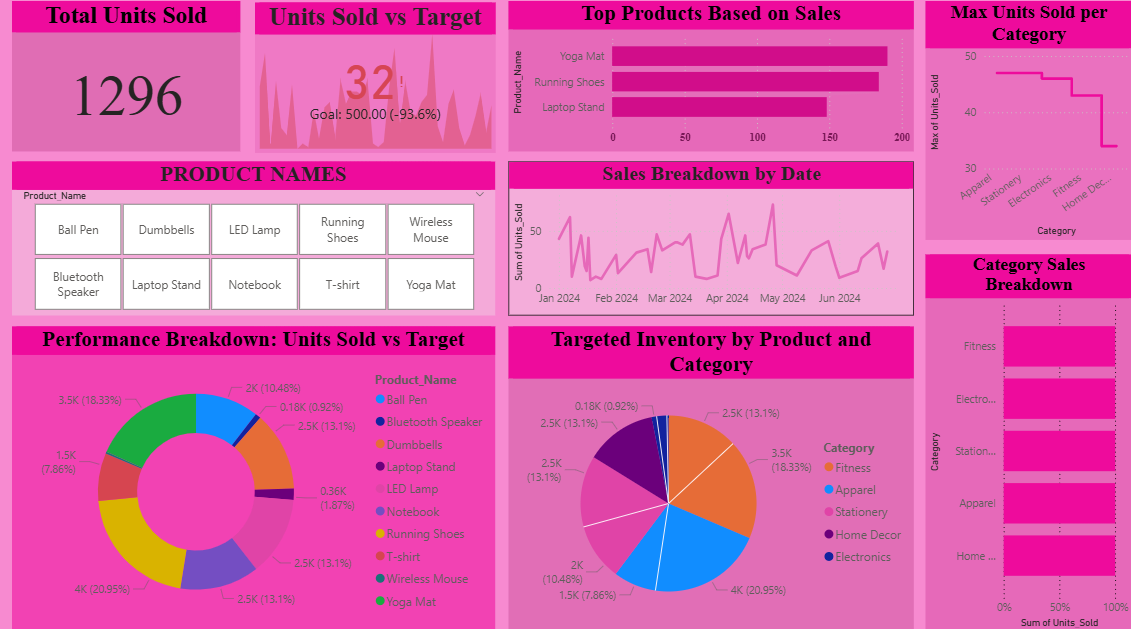

This screenshot's page, from the dashboard's own definition file:
{"tool":"powerbi","page":{"name":"Total Units Sold","canvas":[1280,720],"ordinal":0},"visuals":[{"type":"card","title":"Total Units Sold","fields":{"Values":["Sum(Sheet1.Units_Sold)"]},"box":[14,6,258,170],"z":0},{"type":"lineChart","title":"Sales Breakdown by Date","fields":{"Y":["Sum(Sheet1.Units_Sold)"],"Category":["Sheet1.Date.Variation.Date Hierarchy.Year","Sheet1.Date.Variation.Date Hierarchy.Month","Sheet1.Date.Variation.Date Hierarchy.Day"]},"box":[574,188,458,174],"z":1000},{"type":"slicer","title":"PRODUCT NAMES","fields":{"Values":["Sheet1.Product_Name"]},"box":[14,188,546,174],"z":2000},{"type":"kpi","title":"Units Sold vs Target","fields":{"Indicator":["Sum(Sheet1.Units_Sold)"],"TrendLine":["Sheet1.Date"],"Goal":["Sum(Sheet1.Target_Units)"]},"box":[288,8,272,170],"z":3000},{"type":"donutChart","title":"Performance Breakdown: Units Sold vs Target","fields":{"Category":["Sheet1.Product_Name","Sheet1.Date.Variation.Date Hierarchy.Year","Sheet1.Date.Variation.Date Hierarchy.Quarter","Sheet1.Date.Variation.Date Hierarchy.Month","Sheet1.Date.Variation.Date Hierarchy.Day"],"Series":["Sheet1.Supplier_Name"],"Y":["Sum(Sheet1.Target_Units)"]},"box":[14,374,546,346],"z":4000},{"type":"pieChart","title":"Targeted Inventory by Product and Category","fields":{"Category":["Sheet1.Category","Sheet1.Supplier_Name"],"Series":["Sheet1.Product_Name"],"Y":["Sum(Sheet1.Target_Units)"]},"box":[574,374,458,346],"z":5000},{"type":"barChart","title":"Top Products Based on Sales","fields":{"Category":["Sheet1.Product_Name"],"Y":["Sum(Sheet1.Units_Sold)"]},"box":[574,6,458,170],"z":6000},{"type":"lineChart","title":"Max Units Sold per Category","fields":{"Y":["Max(Sheet1.Units_Sold)"],"Category":["Sheet1.Category"]},"box":[1046,6,234,270],"z":7000},{"type":"hundredPercentStackedBarChart","title":"Category Sales Breakdown","fields":{"Category":["Sheet1.Category"],"Y":["Sum(Sheet1.Units_Sold)"]},"box":[1046,294,234,426],"z":8000}]}

Visuals, with their boxes in screenshot pixels (x1, y1, x2, y2), scaled from the page's 1280x720 canvas onto the 1131x629 screenshot:
"Total Units Sold" card: locate(12, 5, 240, 154)
"Sales Breakdown by Date" lineChart: locate(507, 164, 912, 316)
"PRODUCT NAMES" slicer: locate(12, 164, 495, 316)
"Units Sold vs Target" kpi: locate(254, 7, 495, 156)
"Performance Breakdown: Units Sold vs Target" donutChart: locate(12, 327, 495, 628)
"Targeted Inventory by Product and Category" pieChart: locate(507, 327, 912, 628)
"Top Products Based on Sales" barChart: locate(507, 5, 912, 154)
"Max Units Sold per Category" lineChart: locate(924, 5, 1130, 241)
"Category Sales Breakdown" hundredPercentStackedBarChart: locate(924, 257, 1130, 628)
